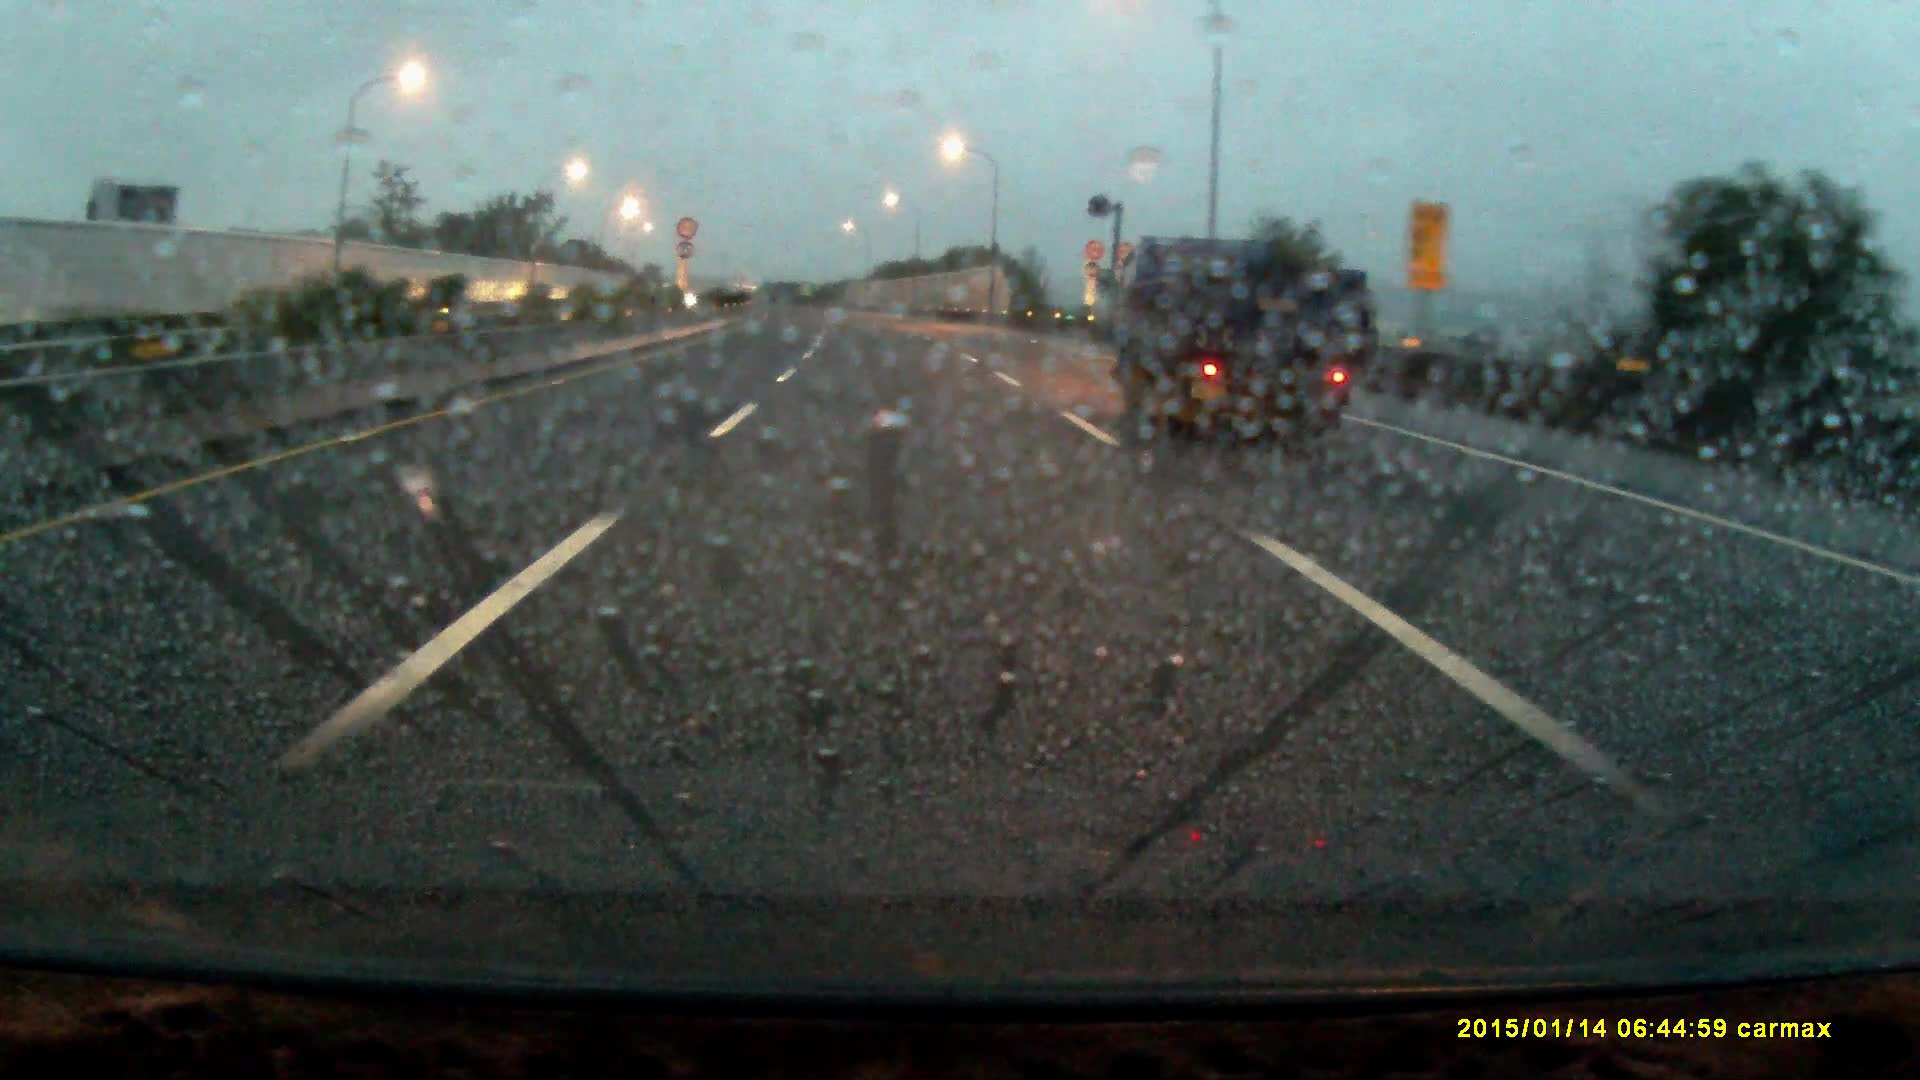vehicle: (1113, 235, 1378, 433)
